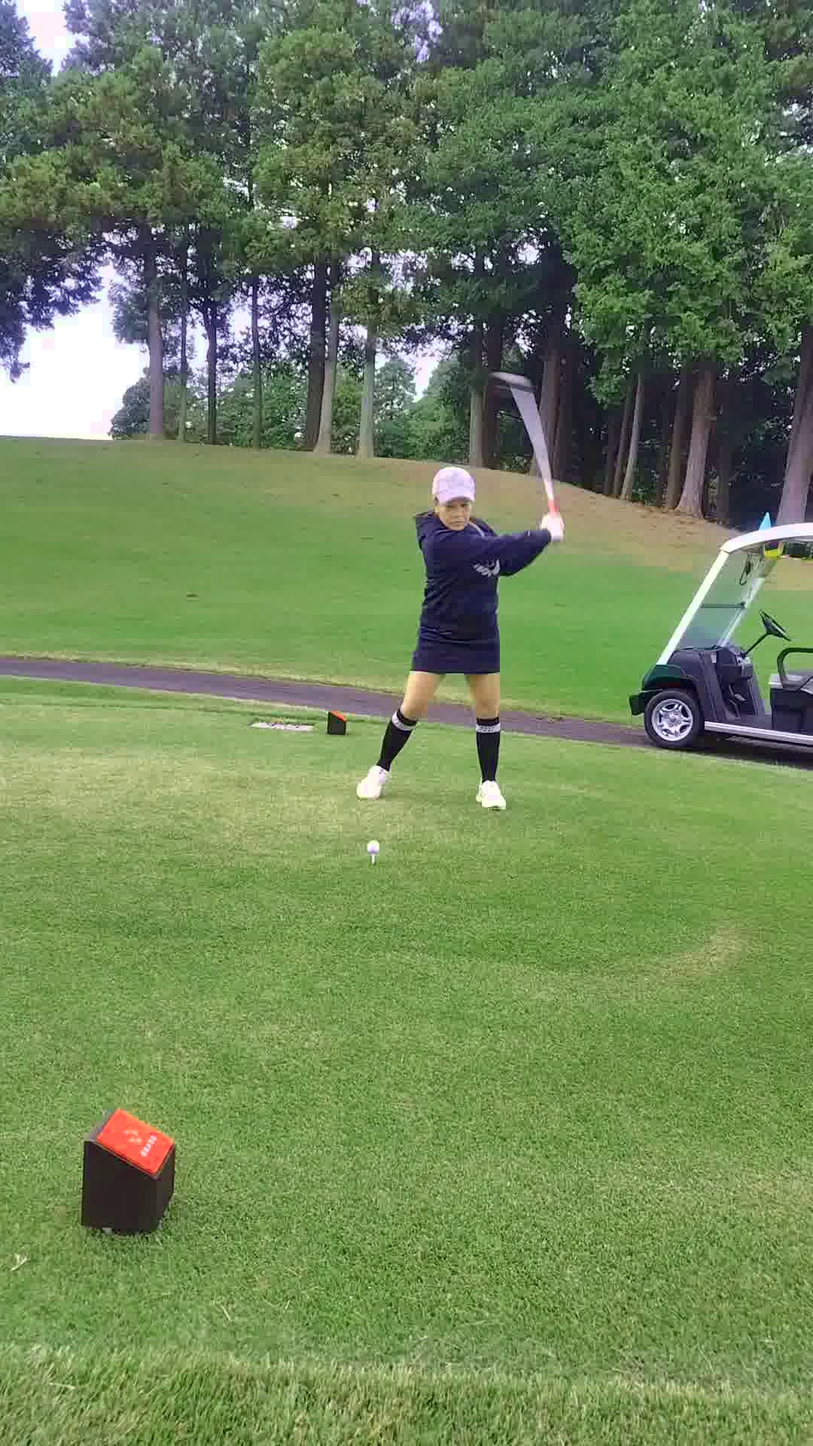clubhead: (459, 325, 580, 450)
